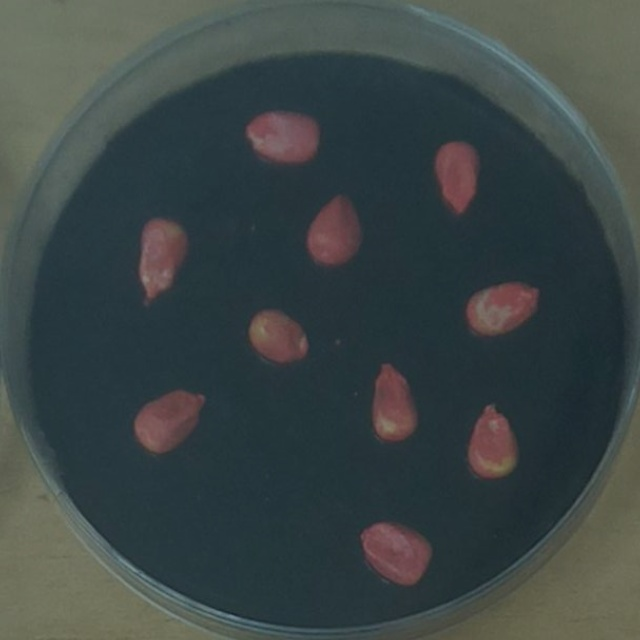Zea mays: (352, 512, 442, 595), (127, 381, 214, 460), (131, 208, 197, 311), (298, 182, 371, 271), (459, 272, 549, 344), (237, 101, 328, 171), (460, 394, 527, 486), (364, 353, 426, 447), (425, 132, 488, 220), (239, 301, 317, 372)
